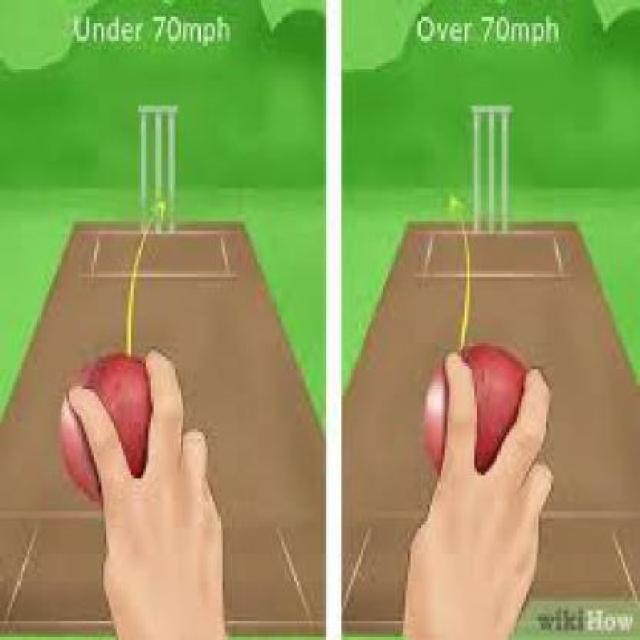ball: (49, 326, 201, 516), (392, 309, 553, 473)
